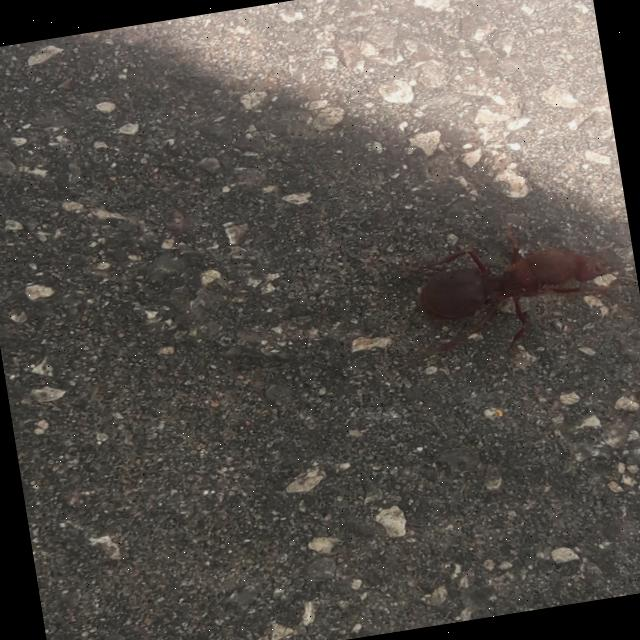Alive-Female-Dealate: (376, 206, 640, 383)
